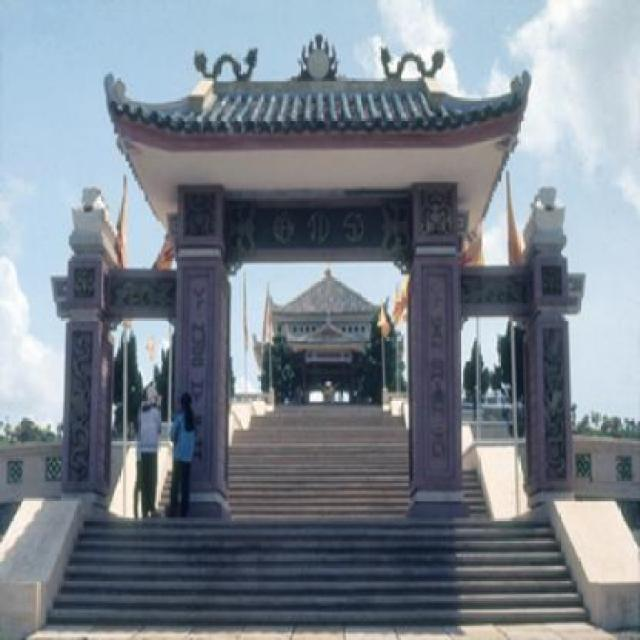stair: (43, 400, 592, 626)
